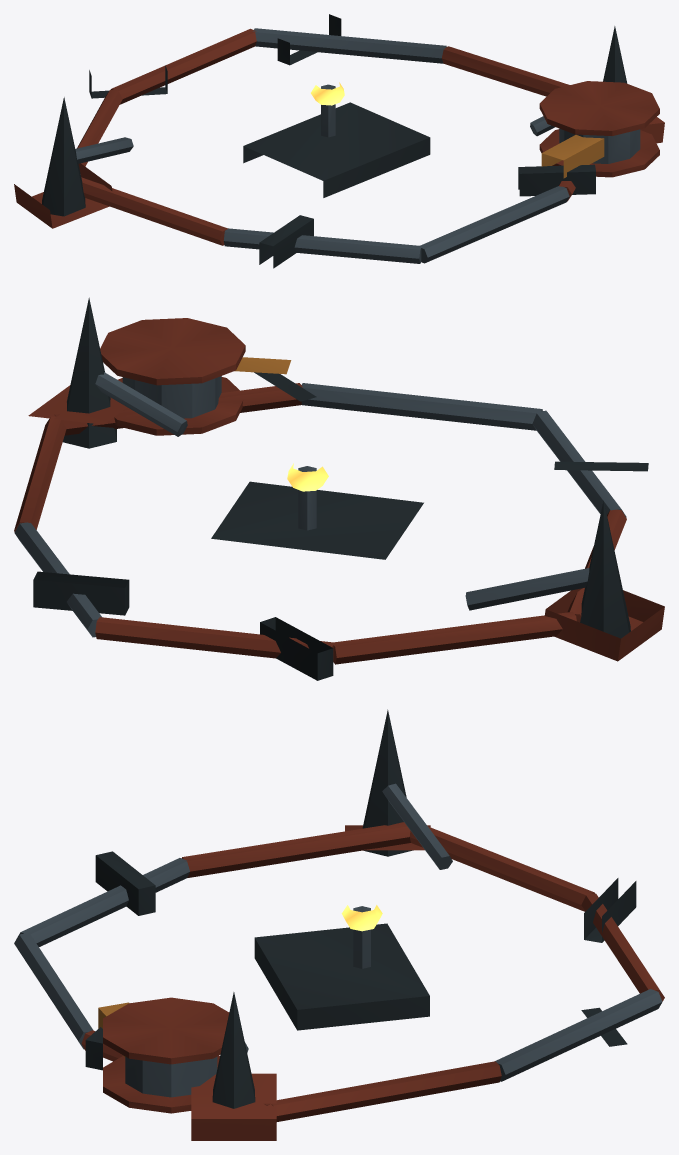
File: hunt_snare.glb
3 views of the same model, one above another, from view 1: azimuth 30°, elevation 25°; view 2: azimuth 150°, elevation 25°; view 3: azimuth 270°, elevation 25° (orthographic). The views are drawn at different scales.
Parts seen in each view (by area): view 1: HuntSnare_Mesh; view 2: HuntSnare_Mesh; view 3: HuntSnare_Mesh.
Part boxes in pixels (<box>): HuntSnare_Mesh: <box>14,14,664,268</box>; HuntSnare_Mesh: <box>14,297,664,680</box>; HuntSnare_Mesh: <box>14,709,664,1140</box>.
Bounding box in the file's own units: 1.32 × 0.26 × 1.14.
